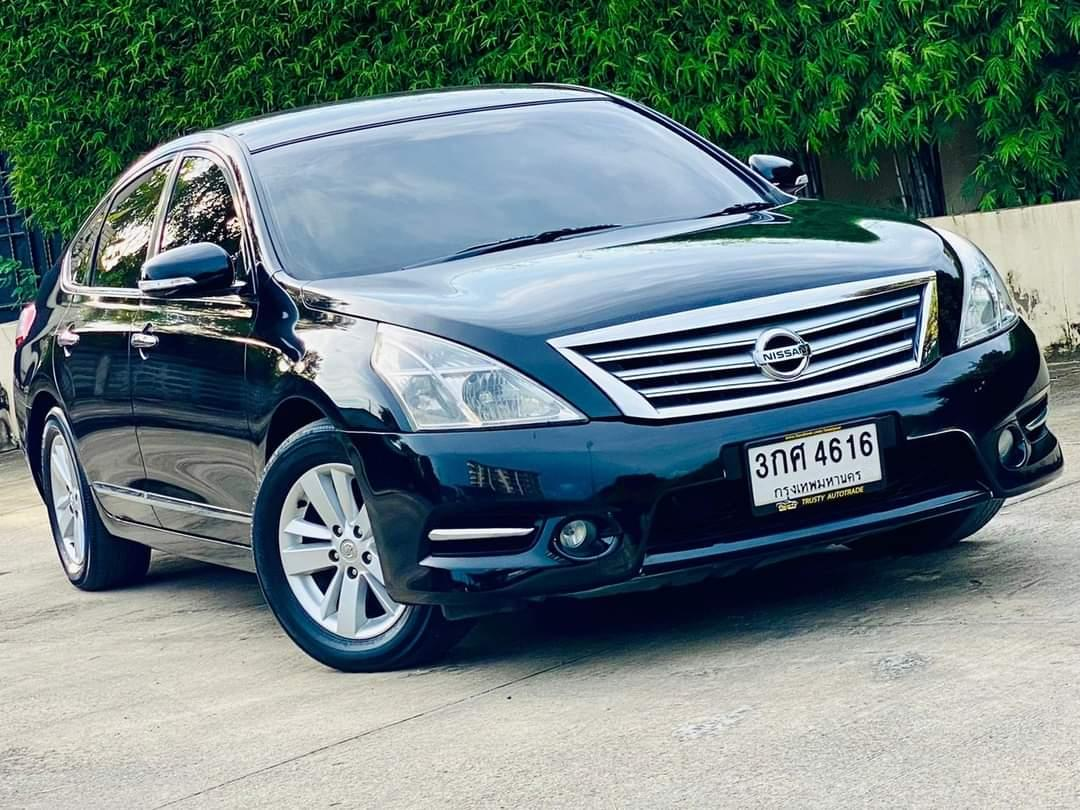license-plate: (743, 417, 887, 521)
